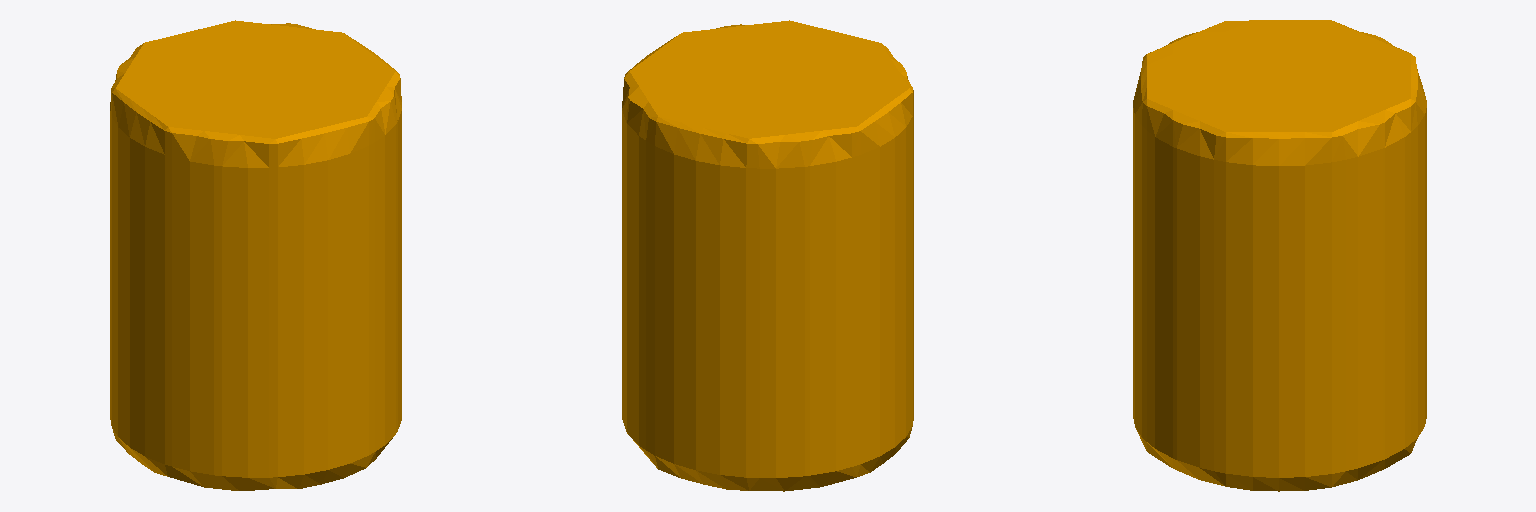
The robot description file, URDF, robot "cylinder_../../meshes/cylinders/cylinder_35.stl":
<?xml version="1.0" encoding="utf-8"?>  <robot name="cylinder_../../meshes/cylinders/cylinder_35.stl">   <link name="cylinder_../../meshes/cylinders/cylinder_35.stl">     <visual>       <geometry>         <mesh filename="../meshes/cylinders/cylinder_35.stl" scale="1 1 1"/>       </geometry>     </visual>     <collision>       <geometry>         <mesh filename="../meshes/cylinders/cylinder_35.stl" scale="1 1 1"/>       </geometry>     </collision>     <inertial>        <origin         xyz="0 0 0"         rpy="0 0 0" />       <mass value="0.18028848399615863"/>       <origin rpy="0 0 0" xyz="0 0 0"/>       <inertia ixx="0.00011790945616089688" ixy="-3.1330292206358688e-09" ixz="3.364948702626204e-09" iyy="0.00011790964547384024" iyz="5.2704938026993605e-09" izz="6.891393728142395e-05"/>     </inertial>   </link>  </robot>

--- Render facts (derived) ---
Views: 3 orthographic renders of the robot side by side, from view 1: azimuth 30°, elevation 25°; view 2: azimuth 150°, elevation 25°; view 3: azimuth 270°, elevation 25°.
Robot: cylinder_../../meshes/cylinders/cylinder_35.stl — 1 links, 0 joints (none); root link cylinder_../../meshes/cylinders/cylinder_35.stl; default pose: every joint at zero.
Visible links, largest first — view 1: cylinder_../../meshes/cylinders/cylinder_35.stl; view 2: cylinder_../../meshes/cylinders/cylinder_35.stl; view 3: cylinder_../../meshes/cylinders/cylinder_35.stl.
Boxes of the visible links, x1,y1,x2,y2 form: cylinder_../../meshes/cylinders/cylinder_35.stl: [110, 20, 401, 490]; cylinder_../../meshes/cylinders/cylinder_35.stl: [622, 20, 913, 491]; cylinder_../../meshes/cylinders/cylinder_35.stl: [1133, 20, 1426, 491].
Size in the robot's own frame: 0.0557 by 0.0557 by 0.0752 metres.
Meshes: 1 distinct files referenced, 1 mesh visuals loaded (1 binary STL).